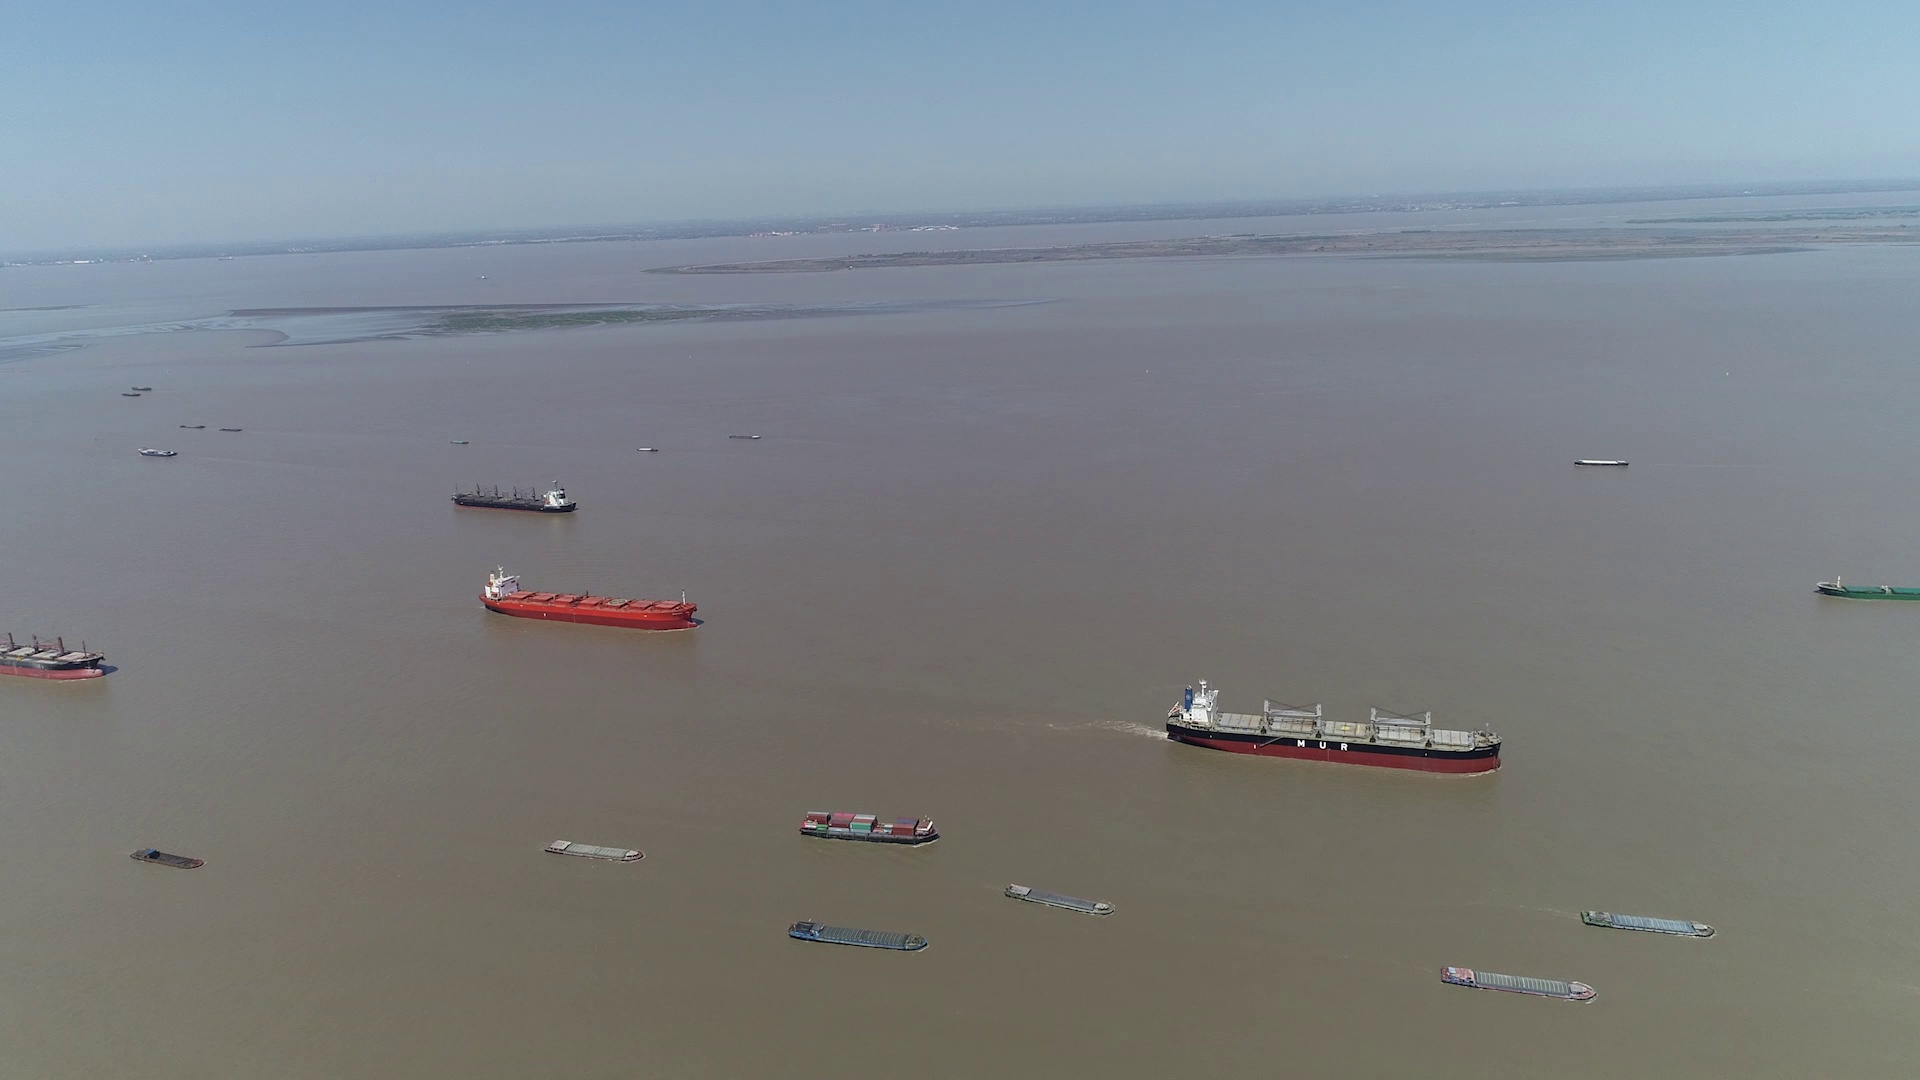ship: (1164, 679, 1503, 774), (483, 564, 694, 632), (1, 618, 112, 683), (1440, 965, 1596, 1001), (785, 919, 930, 953), (802, 814, 938, 845), (452, 480, 576, 512), (1004, 882, 1112, 916), (1582, 910, 1716, 938), (545, 837, 642, 862), (1816, 578, 1919, 600), (132, 847, 203, 869), (135, 446, 177, 458), (1575, 459, 1629, 467), (121, 386, 148, 396)
